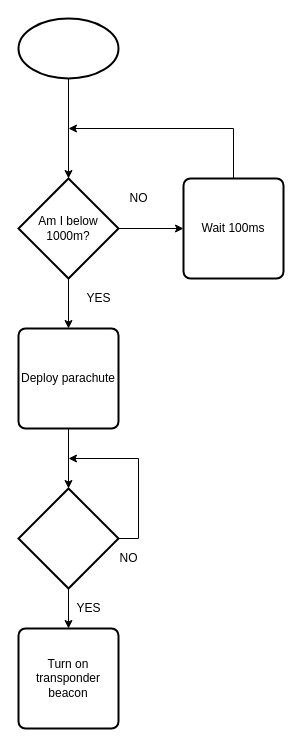
Image size: 301x746. Some labels were removed from this diagram. The centre of each missing label's shape, as x and y in pixels:
Am I at or below 0m?: the point at 68,538
Re-enter atmosphere: the point at 68,48
